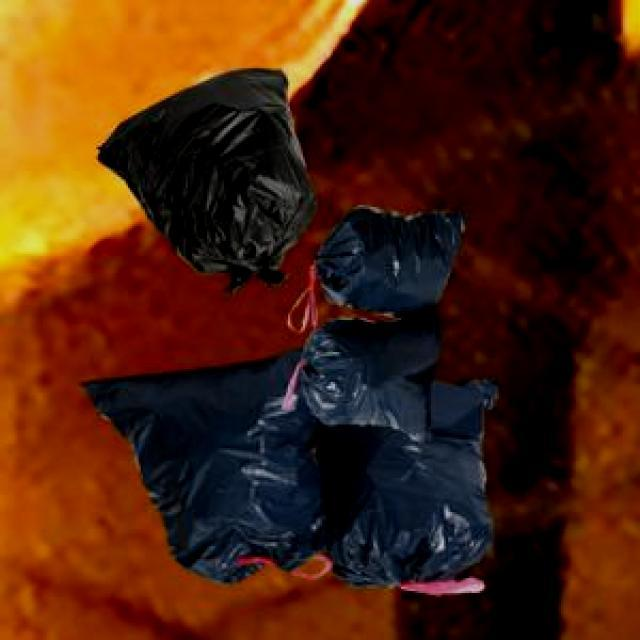Trashbag: (93, 62, 315, 300), (117, 355, 320, 588), (330, 437, 499, 609), (308, 202, 473, 326), (305, 319, 445, 444)
